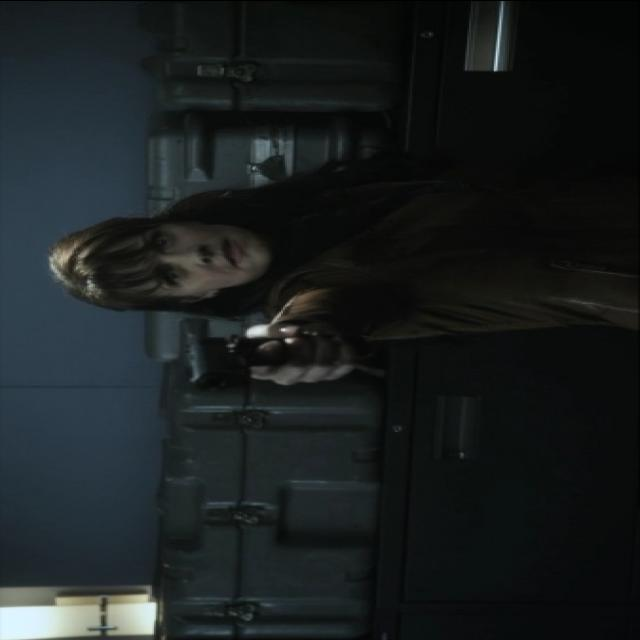weapons: (165, 320, 328, 404)
